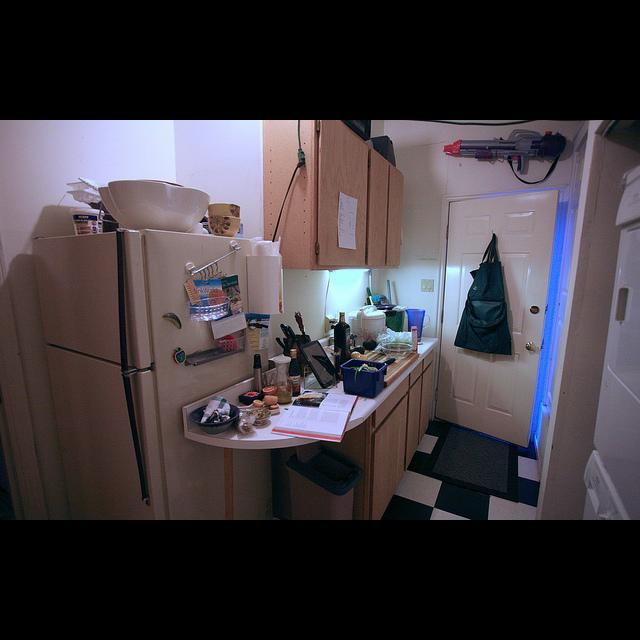Refrigerator: (31, 231, 275, 518)
